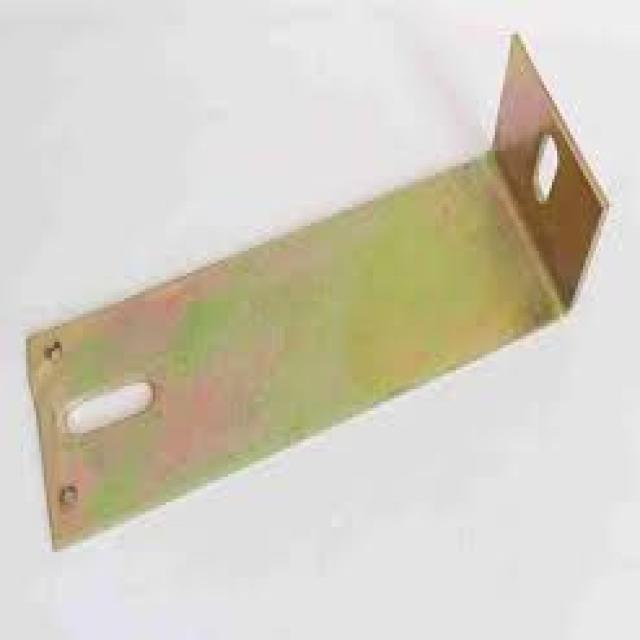holes: (58, 377, 166, 434), (531, 129, 560, 204)
